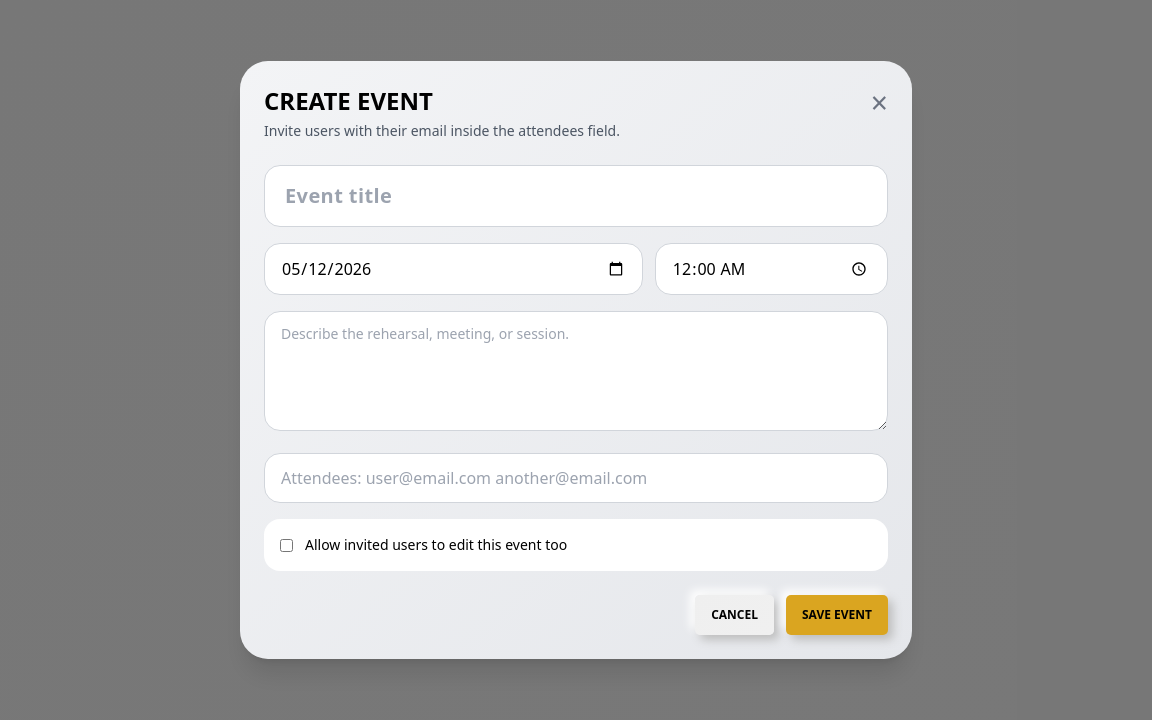
Scenario: EventModal › loads attendee suggestions and fills the active token when selected
In the field with placeholder "Attendees: user@email.com another@email.com": (576, 478) left=264, top=453, right=888, bottom=503, type "fri"
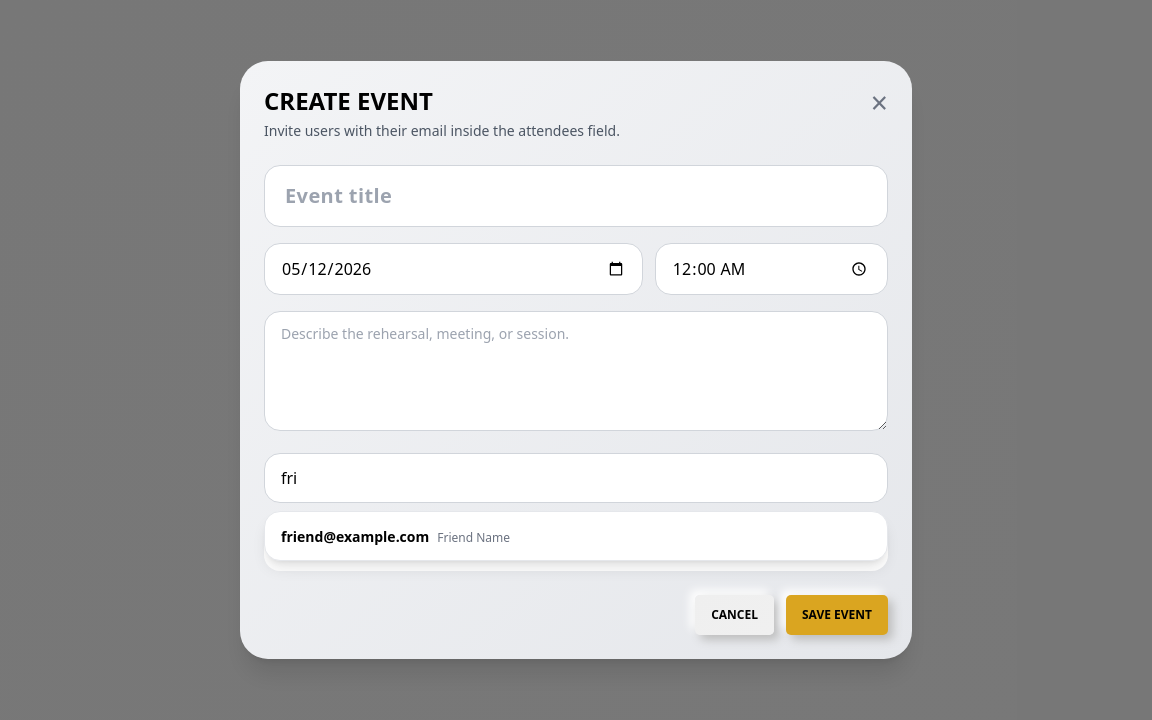
Click the button "friend@example.com": (355, 536) left=265, top=512, right=887, bottom=560
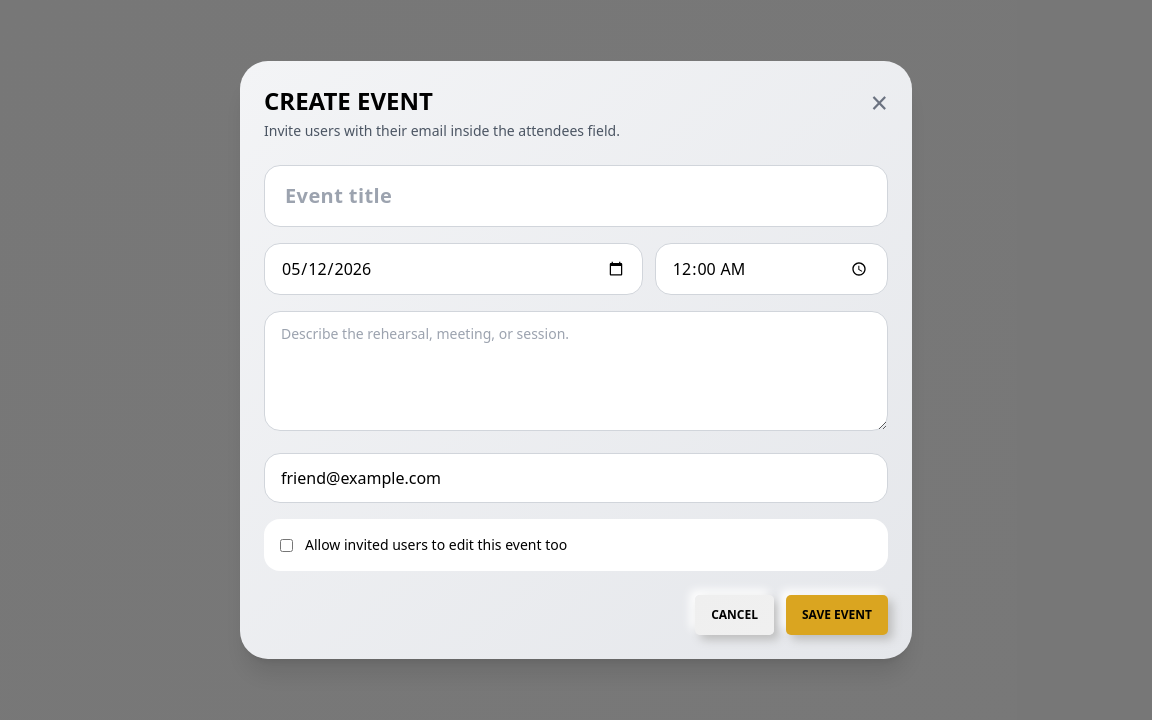
Now the field with placeholder "Attendees: user@email.com another@email.com" holds "friend@example.com ", box left=264, top=453, right=888, bottom=503
